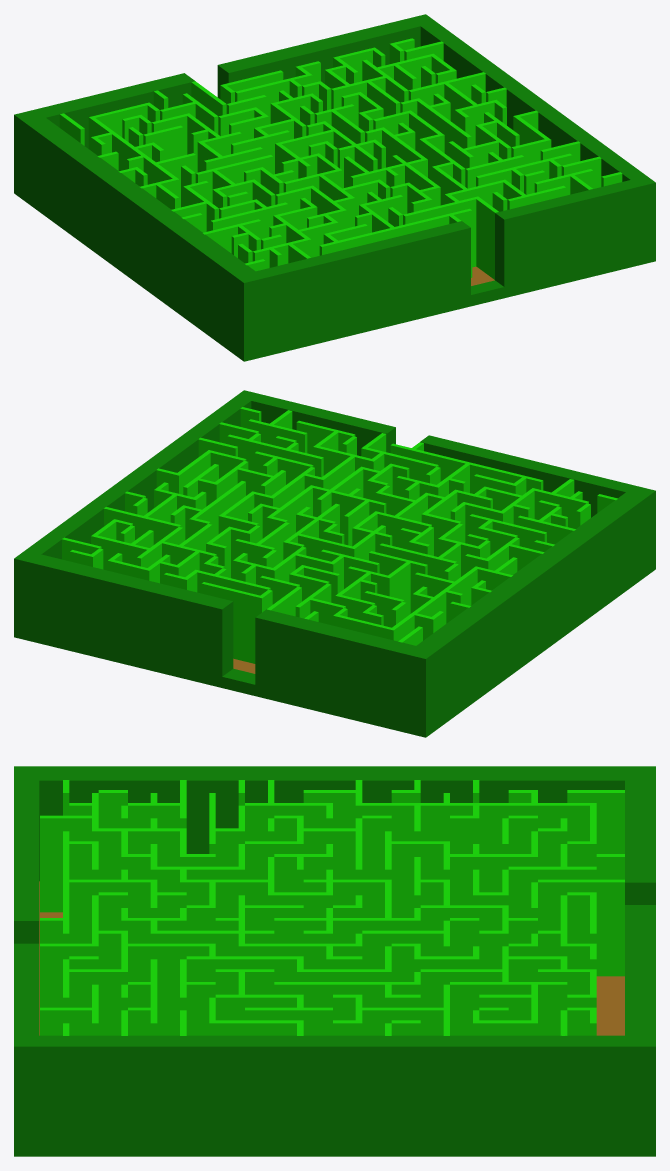
The model's file is maze.glb.
3 views of the same model, one above another, from view 1: azimuth 30°, elevation 25°; view 2: azimuth 150°, elevation 25°; view 3: azimuth 270°, elevation 25° (orthographic). The views are drawn at different scales.
Visible parts, largest first — view 1: Maze; view 2: Maze; view 3: Maze.
Boxes of the visible parts, x1,y1,x2,y2 form: Maze: (14,14,655,361); Maze: (14,390,655,737); Maze: (14,766,655,1156).
Size of the model in its own units: 49.57 by 9.05 by 47.97.
